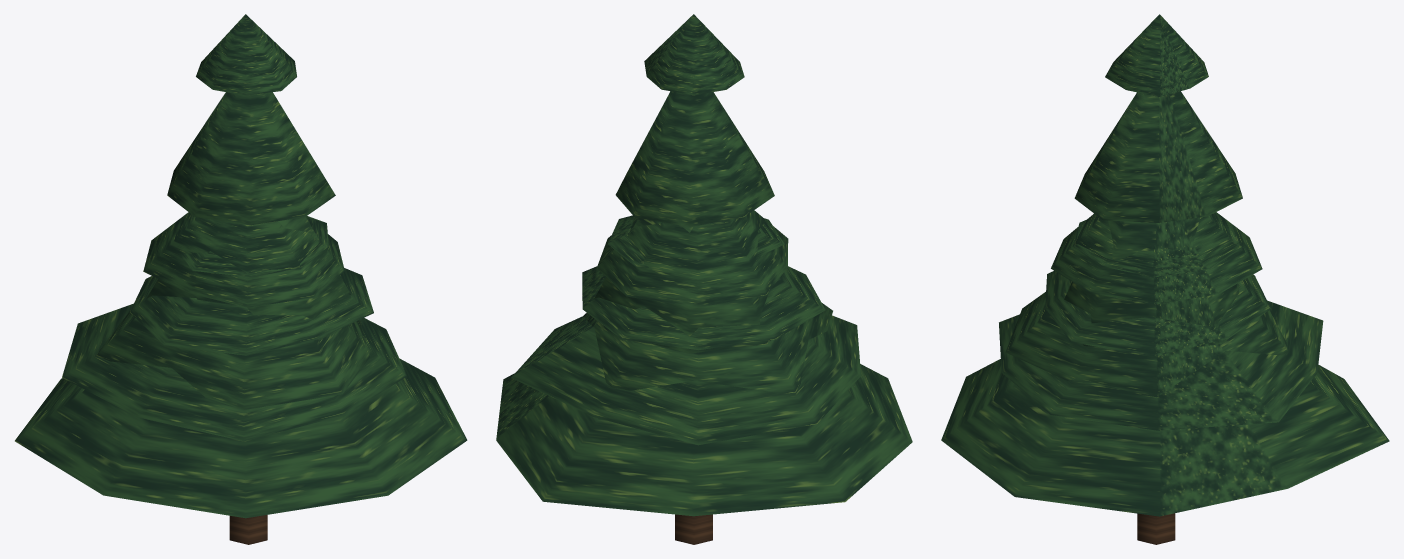
Rendered from pines.glb.
3 renders of one model, left to right at view 1: azimuth 30°, elevation 25°; view 2: azimuth 150°, elevation 25°; view 3: azimuth 270°, elevation 25°, orthographic.
Parts seen in each view (by area): view 1: Pine2, Pine0, Pine1; view 2: Pine2, Pine1, Pine0; view 3: Pine2, Pine1, Pine0.
Boxes of the visible parts, x1,y1,x2,y2 form: Pine2: (15,216,467,544); Pine0: (96,212,369,409); Pine1: (146,14,351,340); Pine2: (496,215,912,544); Pine1: (586,14,774,353); Pine0: (583,210,832,393); Pine2: (941,220,1389,544); Pine1: (1064,14,1242,348); Pine0: (1005,212,1288,397).
Size of the model in its own units: 5.02 by 6.57 by 5.13.
Materials: 1 (1 with a texture image).
